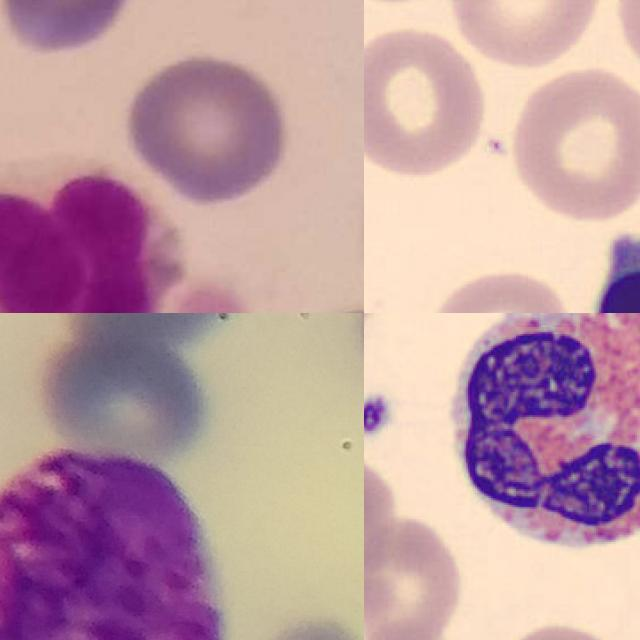Basophil: (0, 446, 227, 640)
Eosinophil: (436, 313, 640, 568), (0, 151, 181, 313)
Lymphocyte: (574, 208, 640, 313)
Platelets: (364, 388, 396, 441)
RBC: (502, 62, 640, 224), (364, 23, 490, 180), (364, 510, 466, 640), (442, 0, 609, 72), (421, 264, 575, 313)
